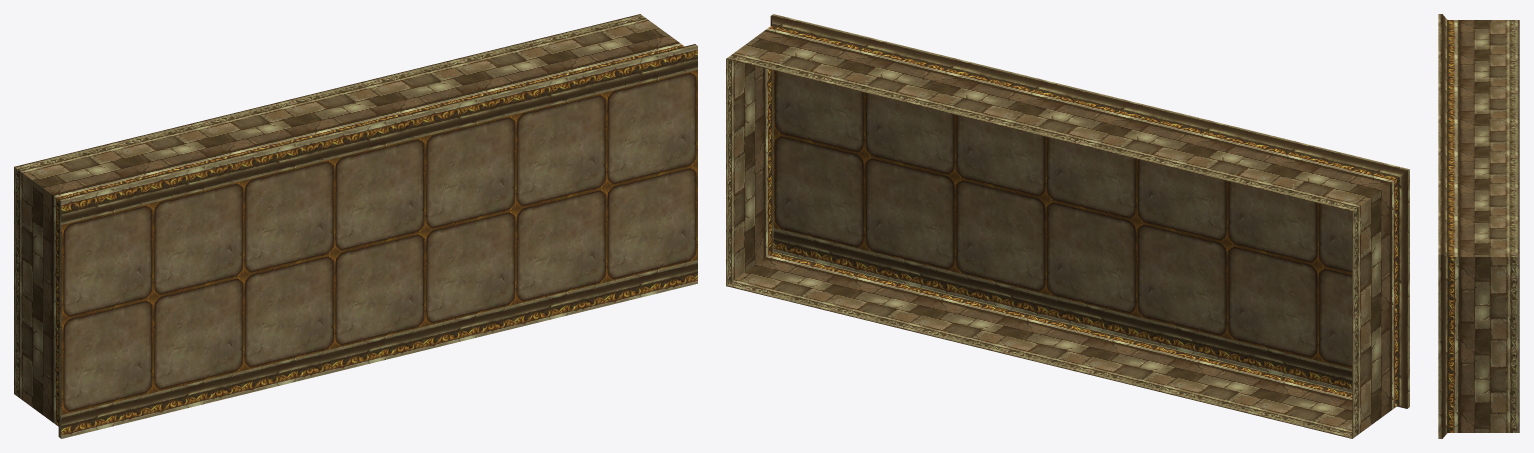
Rendered from zhucheng_shinei_321_pingtai_01b.obj.
3 renders of one model, left to right at view 1: azimuth 30°, elevation 25°; view 2: azimuth 150°, elevation 25°; view 3: azimuth 270°, elevation 25°, orthographic. The views are drawn at different scales.
Visible parts, largest first — view 1: Box02; view 2: Box02; view 3: Box02.
Part boxes in pixels (left/top/right/bottom): Box02: left=14, top=14, right=697, bottom=438; Box02: left=726, top=14, right=1409, bottom=438; Box02: left=1438, top=14, right=1519, bottom=438.
Size of the model in its own units: 896 by 320 by 128.
Materials: 2 (2 with a texture image).
